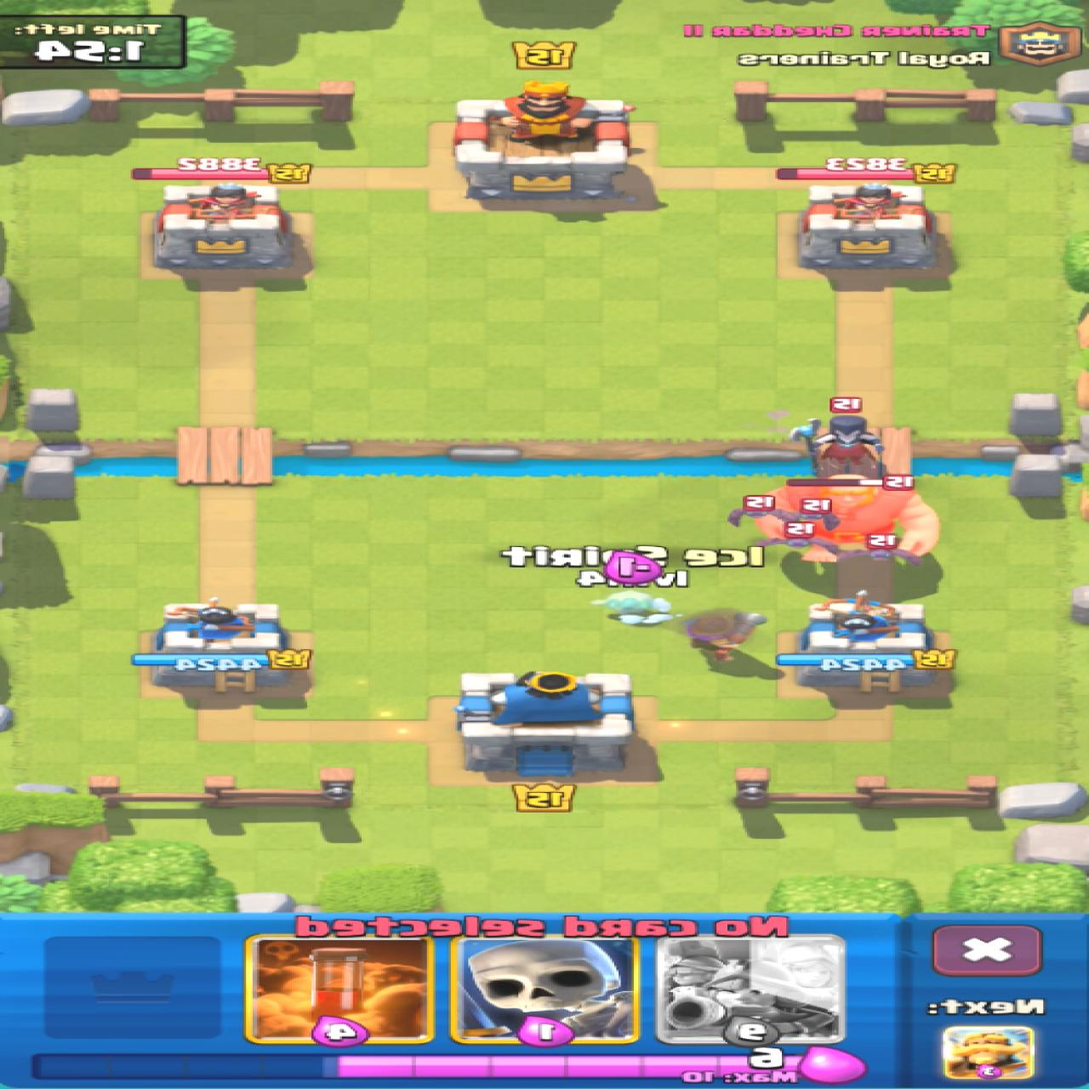Enemy-Bat: (760, 523, 839, 557), (730, 497, 802, 527), (841, 547, 921, 564), (799, 500, 839, 530)
Enemy-Giant: (756, 487, 939, 562)
Enemy-KingTower: (455, 83, 632, 198)
Enemy-NightWitch: (793, 414, 884, 474)
Enemy-PrincessTower: (152, 184, 311, 282), (799, 183, 939, 276)
